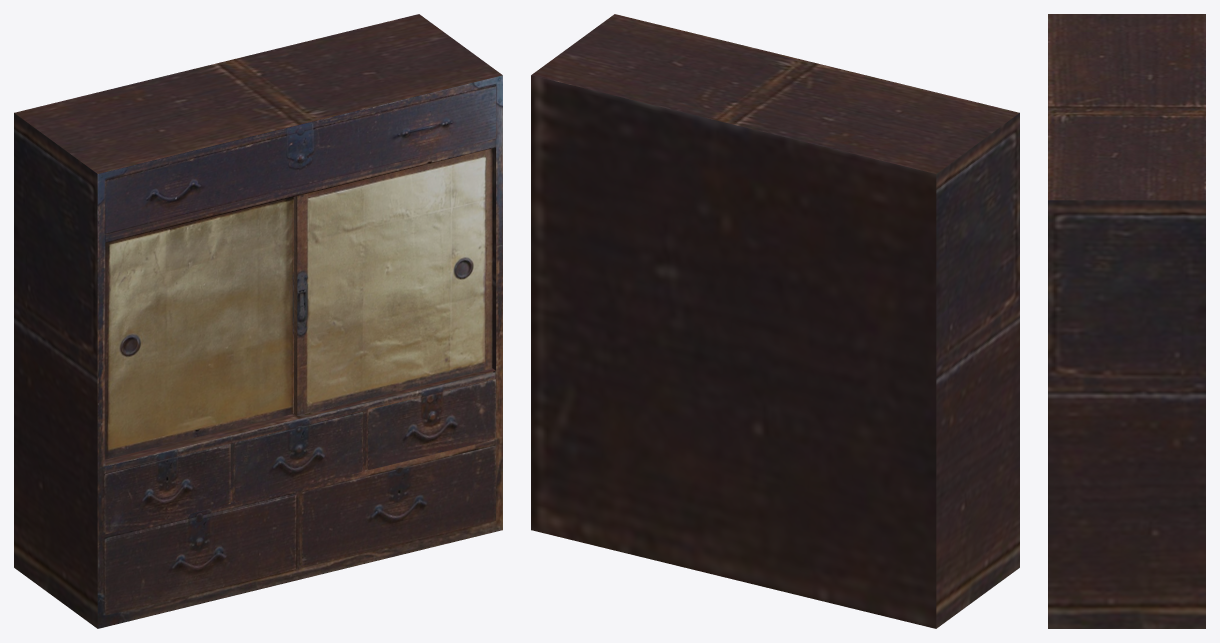
File: drawer_b.fbx
The picture shows the model from 3 angles, left to right: view 1: azimuth 30°, elevation 25°; view 2: azimuth 150°, elevation 25°; view 3: azimuth 270°, elevation 25°; orthographic projection. The views are drawn at different scales.
Parts seen in each view (by area): view 1: base, slide_door1, slide_door2, drawer1, drawer6, drawer5, drawer3, drawer4, drawer2; view 2: base; view 3: base.
Part boxes in pixels (x1,y1,x2,y2): base: [14, 14, 502, 628]; slide_door1: [294, 148, 492, 415]; slide_door2: [105, 197, 293, 459]; drawer1: [105, 85, 495, 233]; drawer6: [302, 445, 495, 567]; drawer5: [105, 494, 296, 615]; drawer3: [235, 411, 362, 502]; drawer4: [368, 379, 495, 470]; drawer2: [105, 443, 230, 534]; base: [531, 14, 1019, 628]; base: [1048, 14, 1205, 628].
Bounding box in the file's own units: 98.57 × 106 × 35.26.
Materials: 1 (1 with a texture image).
